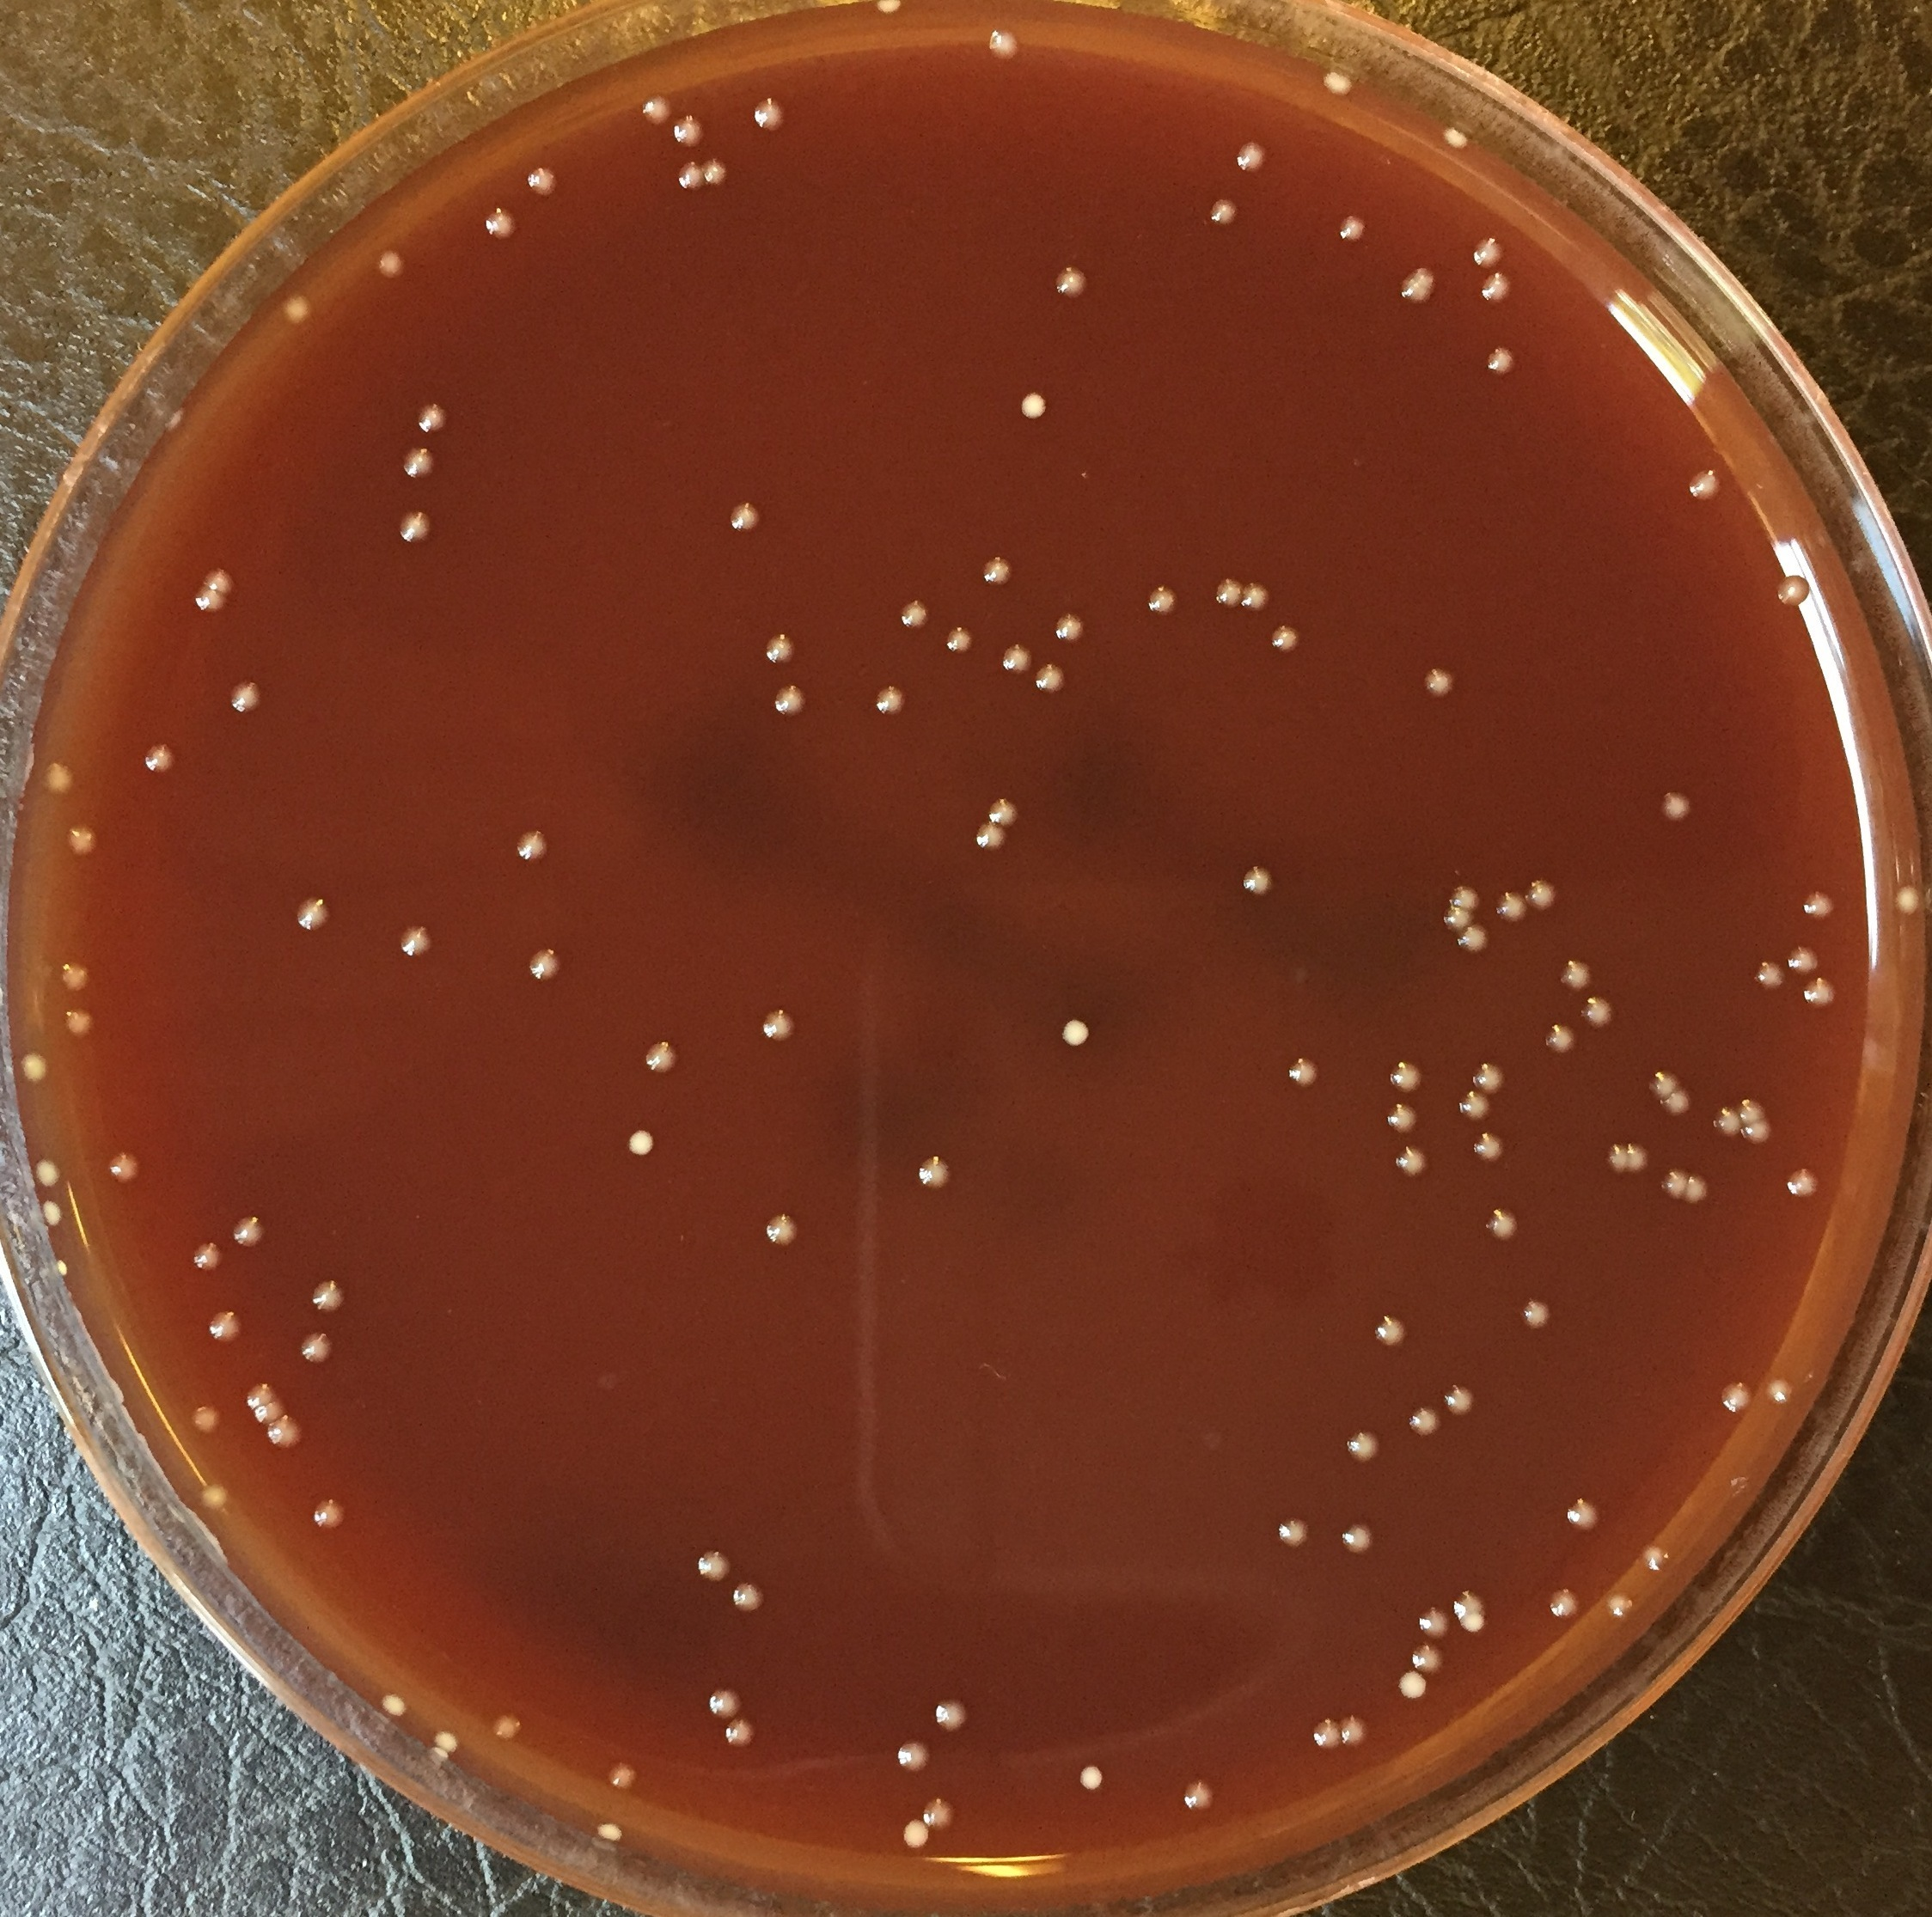sp06: (1006, 384, 1056, 434), (395, 504, 441, 556), (764, 681, 815, 722), (1684, 462, 1728, 507), (393, 444, 443, 485), (279, 291, 323, 335), (982, 25, 1027, 67), (757, 625, 803, 667), (1389, 1143, 1433, 1185), (750, 91, 790, 137), (102, 1146, 148, 1187), (912, 1150, 957, 1190), (306, 1492, 353, 1531), (1770, 569, 1813, 611), (1235, 135, 1277, 177), (1049, 263, 1092, 304), (479, 204, 523, 244), (290, 895, 335, 934), (694, 1545, 736, 1585), (931, 1696, 973, 1736), (1453, 1087, 1495, 1127), (1470, 1129, 1512, 1169), (634, 91, 676, 132), (56, 955, 97, 997), (762, 1211, 804, 1252), (704, 1684, 748, 1722), (718, 1713, 762, 1752), (725, 497, 769, 535), (1210, 572, 1247, 618), (890, 1734, 931, 1775), (413, 400, 453, 441), (307, 1276, 350, 1315), (602, 1755, 645, 1794), (1342, 1427, 1384, 1466), (1563, 1496, 1605, 1534), (1779, 1164, 1821, 1203), (397, 923, 439, 962), (1391, 1671, 1435, 1708), (1540, 1585, 1586, 1620), (966, 822, 1012, 857), (1179, 1775, 1219, 1813), (1482, 1203, 1523, 1241), (977, 555, 1017, 593), (1331, 211, 1372, 249), (525, 944, 564, 985), (755, 1006, 796, 1045), (1440, 1382, 1482, 1418), (641, 1039, 683, 1076), (917, 1798, 961, 1833), (1407, 1641, 1451, 1676), (1535, 1022, 1579, 1057), (63, 822, 107, 857), (618, 1125, 662, 1160), (1475, 270, 1514, 309), (1470, 233, 1509, 272), (1284, 1053, 1324, 1090), (1662, 1085, 1698, 1125), (1797, 976, 1837, 1013), (1054, 609, 1091, 650), (19, 1050, 56, 1090), (1368, 1315, 1410, 1350), (227, 674, 262, 716), (1623, 1136, 1656, 1180), (297, 1331, 335, 1368), (1270, 1511, 1307, 1550), (1407, 1404, 1445, 1441), (1472, 1057, 1510, 1094), (195, 1480, 235, 1515), (1734, 1111, 1776, 1145), (1057, 1018, 1099, 1052), (1577, 995, 1621, 1027), (1453, 922, 1496, 953), (209, 1308, 246, 1345), (265, 1415, 302, 1452), (1384, 1101, 1421, 1138), (1484, 342, 1521, 379), (374, 246, 411, 283), (186, 1239, 225, 1274), (871, 685, 910, 720), (1268, 620, 1303, 658), (1419, 664, 1454, 702), (232, 1213, 272, 1246), (731, 1582, 771, 1615), (1338, 1520, 1379, 1554), (1205, 197, 1245, 230), (139, 743, 181, 774), (1075, 1759, 1112, 1794), (1711, 1102, 1746, 1139), (984, 795, 1020, 830), (1238, 862, 1275, 897), (1033, 662, 1070, 697), (1637, 1543, 1676, 1576), (1718, 1378, 1756, 1411), (1238, 578, 1272, 616), (40, 758, 79, 792), (60, 1006, 98, 1039), (1444, 880, 1484, 911), (1308, 1717, 1344, 1752), (898, 597, 933, 632), (1437, 121, 1472, 156), (1338, 1715, 1372, 1752), (1386, 1060, 1423, 1094), (1525, 876, 1558, 913), (1440, 902, 1477, 936), (999, 641, 1036, 674), (1145, 583, 1182, 616), (1393, 276, 1430, 309), (1647, 1066, 1679, 1104), (1556, 960, 1595, 992), (1493, 892, 1532, 923), (673, 111, 704, 149), (191, 585, 230, 616), (202, 564, 242, 593), (1797, 890, 1839, 918), (1658, 788, 1691, 823), (516, 829, 550, 864), (30, 1152, 65, 1185), (487, 1712, 523, 1743), (1681, 1167, 1711, 1206), (899, 1813, 927, 1854), (1323, 67, 1356, 100), (525, 165, 559, 198), (1416, 1606, 1451, 1638), (1600, 1590, 1642, 1617), (1517, 1296, 1553, 1327), (1892, 885, 1923, 920), (1784, 943, 1820, 974), (1755, 958, 1790, 990), (943, 623, 978, 655), (699, 158, 731, 193), (429, 1726, 465, 1755), (1660, 1166, 1690, 1203), (1730, 1095, 1767, 1125), (186, 1404, 225, 1432), (376, 1691, 409, 1722), (1453, 1587, 1484, 1620), (1409, 265, 1440, 297), (39, 1197, 72, 1227), (242, 1380, 276, 1408), (253, 1397, 286, 1425), (1763, 1376, 1797, 1404), (676, 158, 703, 193), (588, 1822, 625, 1845), (1605, 1136, 1628, 1173), (1458, 1612, 1491, 1636), (53, 1252, 76, 1278)
